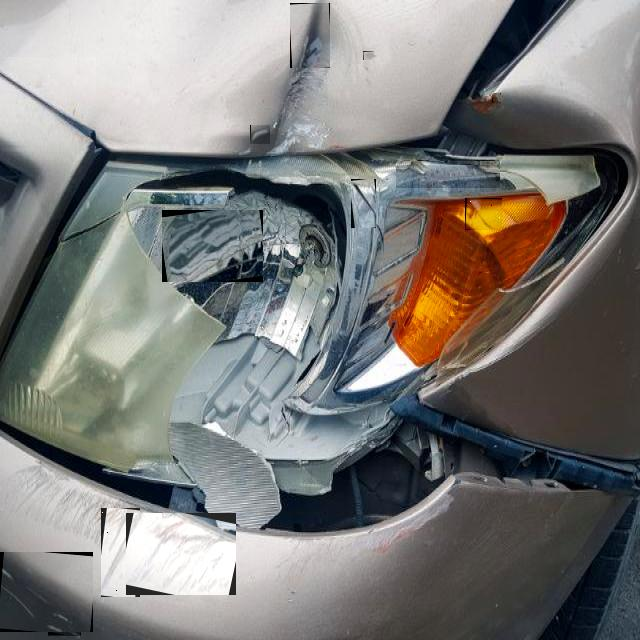Dent: (126, 513, 236, 595), (0, 58, 96, 150), (0, 552, 93, 632), (162, 210, 263, 282), (101, 508, 140, 597), (396, 162, 500, 190), (290, 3, 330, 68), (351, 179, 376, 228), (465, 198, 502, 230), (48, 618, 81, 638), (250, 126, 270, 146), (363, 51, 374, 60), (492, 94, 501, 105), (288, 588, 296, 596)
